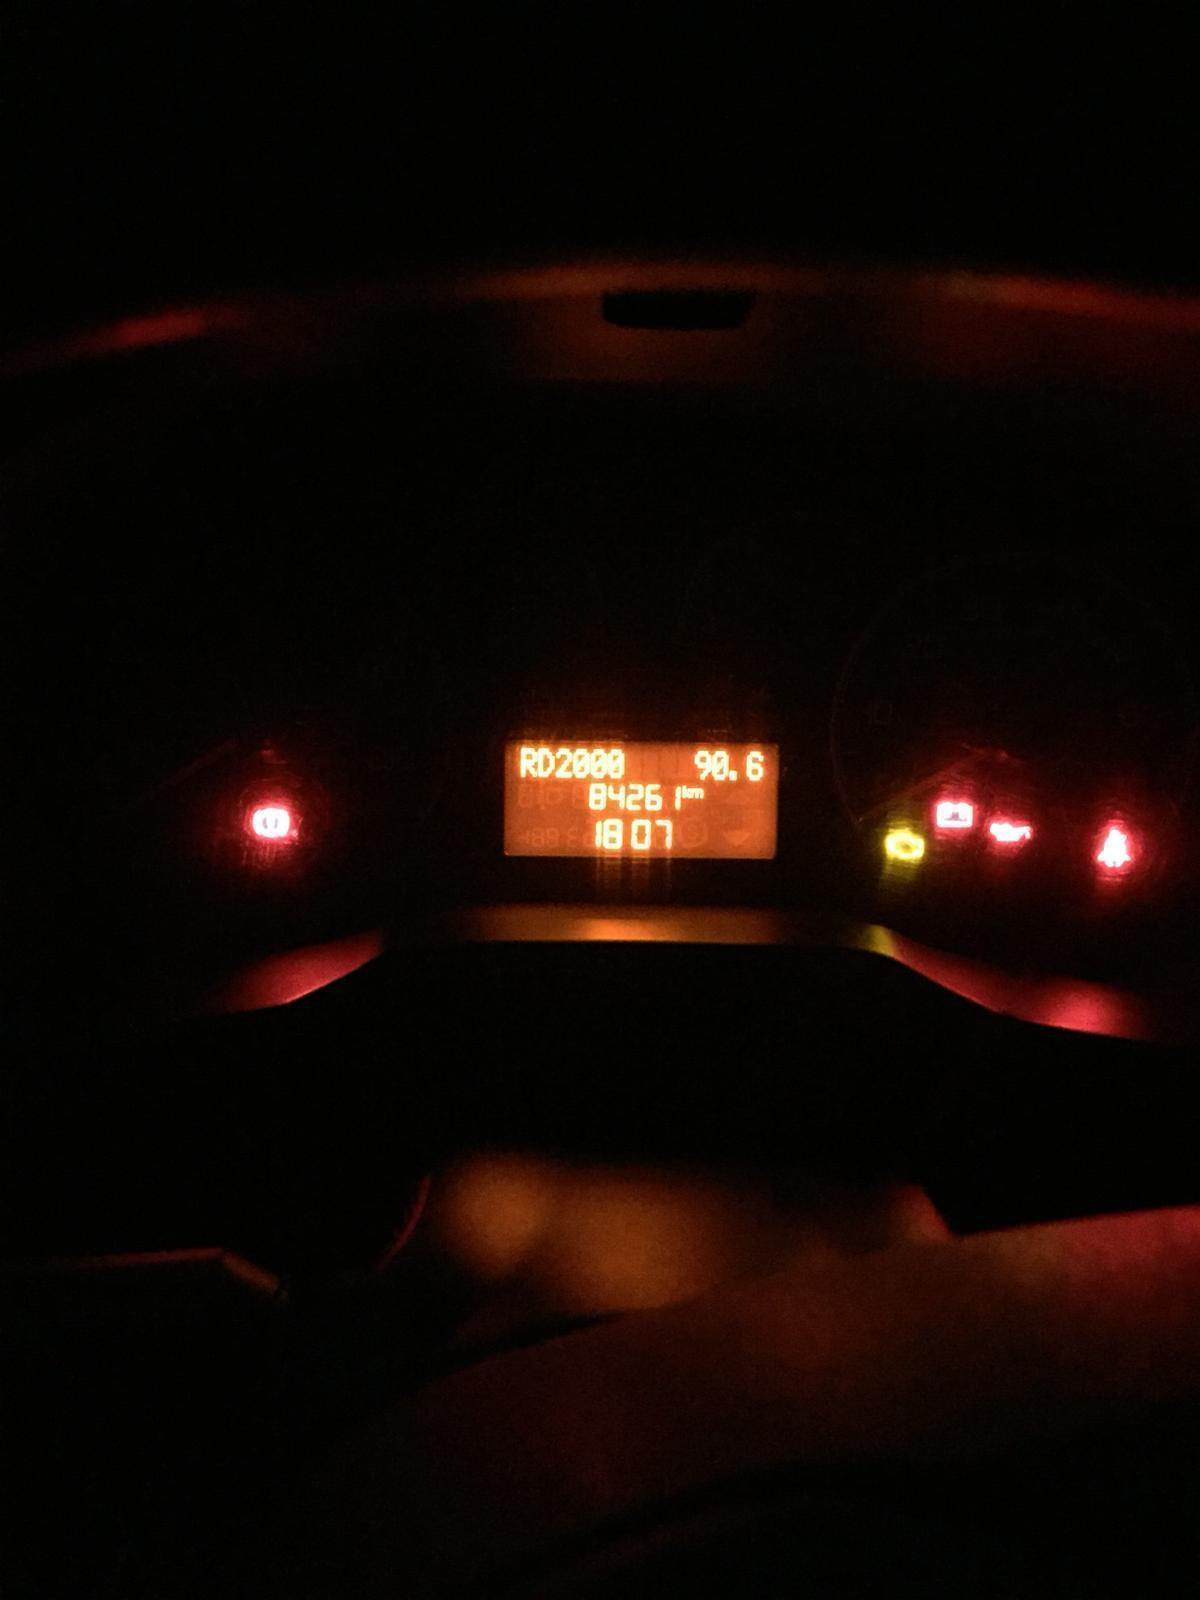,: (729, 769, 737, 784)
0: (629, 818, 650, 850), (608, 746, 625, 779), (572, 746, 589, 779), (589, 748, 606, 779), (712, 750, 729, 780)
1: (592, 819, 601, 848), (673, 784, 681, 811)
2: (555, 747, 571, 779), (626, 784, 644, 811)
4: (608, 781, 625, 809)
6: (745, 750, 764, 780), (644, 782, 663, 811)
7: (655, 818, 674, 850)
8: (603, 818, 623, 849), (587, 782, 606, 809)
9: (695, 750, 712, 780)
X: (537, 745, 555, 779), (519, 745, 536, 779), (689, 786, 705, 799), (682, 784, 689, 799)
odometer: (498, 734, 787, 863)
